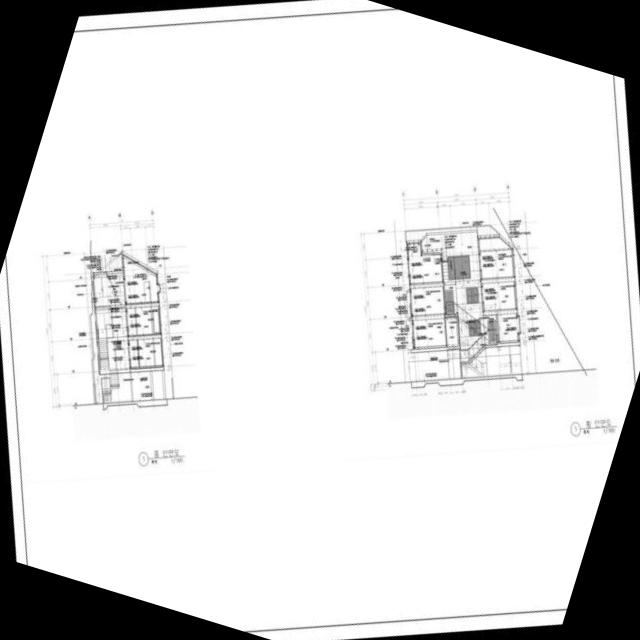background: (0, 0, 640, 640)
space_bedroom: (408, 243, 442, 284), (413, 318, 446, 349), (479, 249, 513, 279), (482, 281, 516, 311), (497, 313, 519, 343)
space_kitchen: (135, 306, 160, 335), (138, 338, 162, 368)
space_living_room: (123, 255, 159, 304), (410, 286, 444, 316)
space_other: (131, 371, 151, 401), (479, 237, 510, 250), (152, 370, 164, 399), (126, 308, 137, 336), (129, 340, 139, 369)
space_staircase: (98, 336, 129, 369), (94, 275, 125, 306), (96, 307, 127, 338)
space_toilet: (445, 316, 458, 346)
